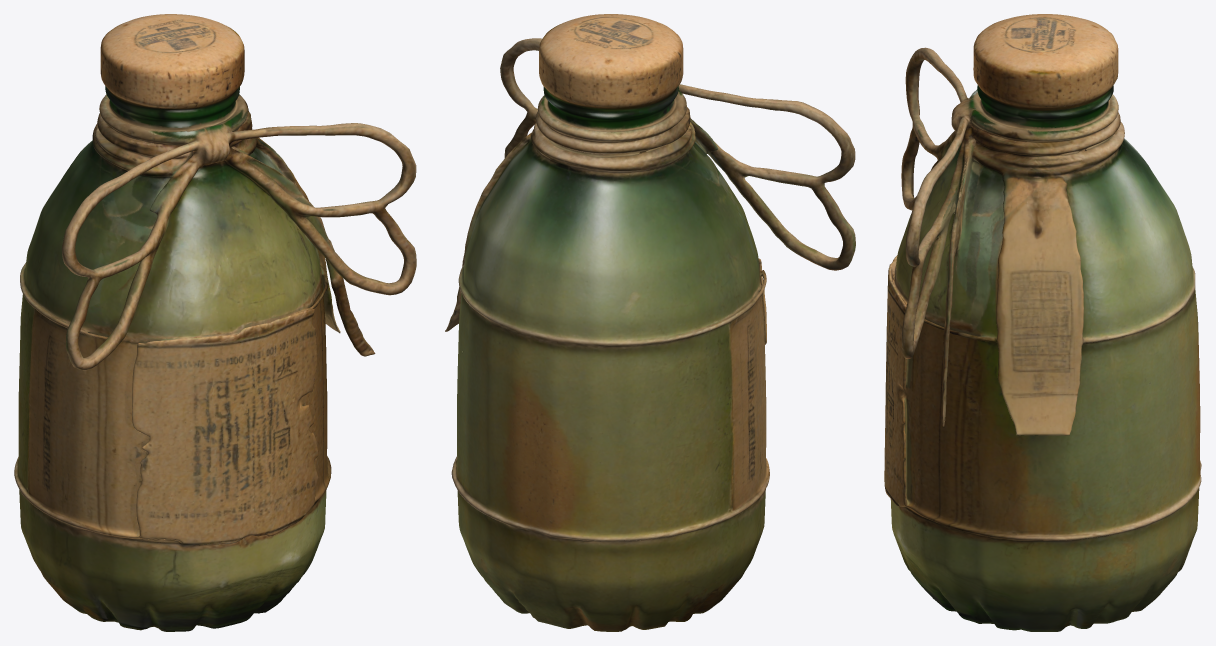
The model's file is _0613145719_texture.fbx.
3 renders of one model, left to right at view 1: azimuth 30°, elevation 25°; view 2: azimuth 150°, elevation 25°; view 3: azimuth 270°, elevation 25°, orthographic.
Visible parts, largest first — view 1: model; view 2: model; view 3: model.
Boxes of the visible parts, x1,y1,x2,y2 form: model: (14,14,416,631); model: (445,14,855,631); model: (884,14,1201,631).
Size of the model in its own units: 132 by 200 by 103.
1 material, 1 textured.
